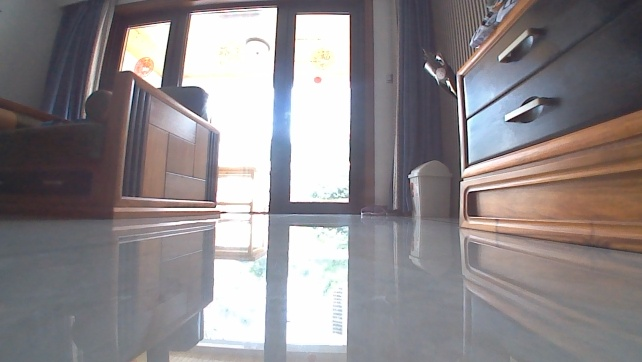TV_stand1: (453, 0, 641, 257)
sofa: (0, 66, 226, 221)
